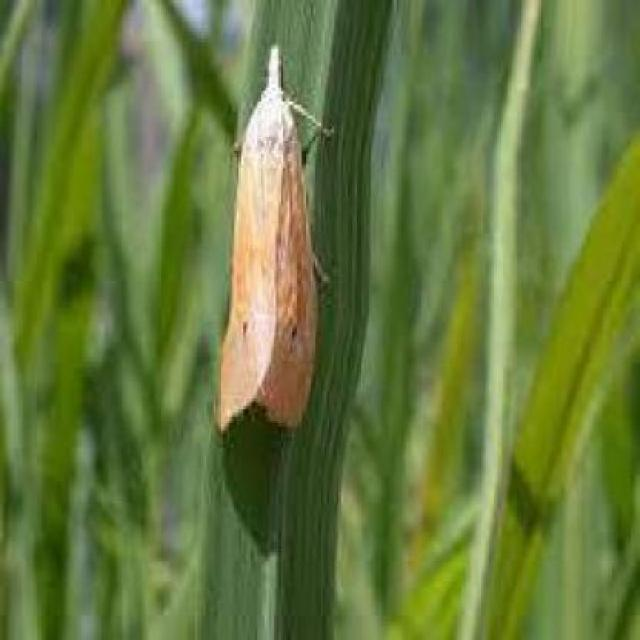stem-borer: (216, 39, 335, 436)
